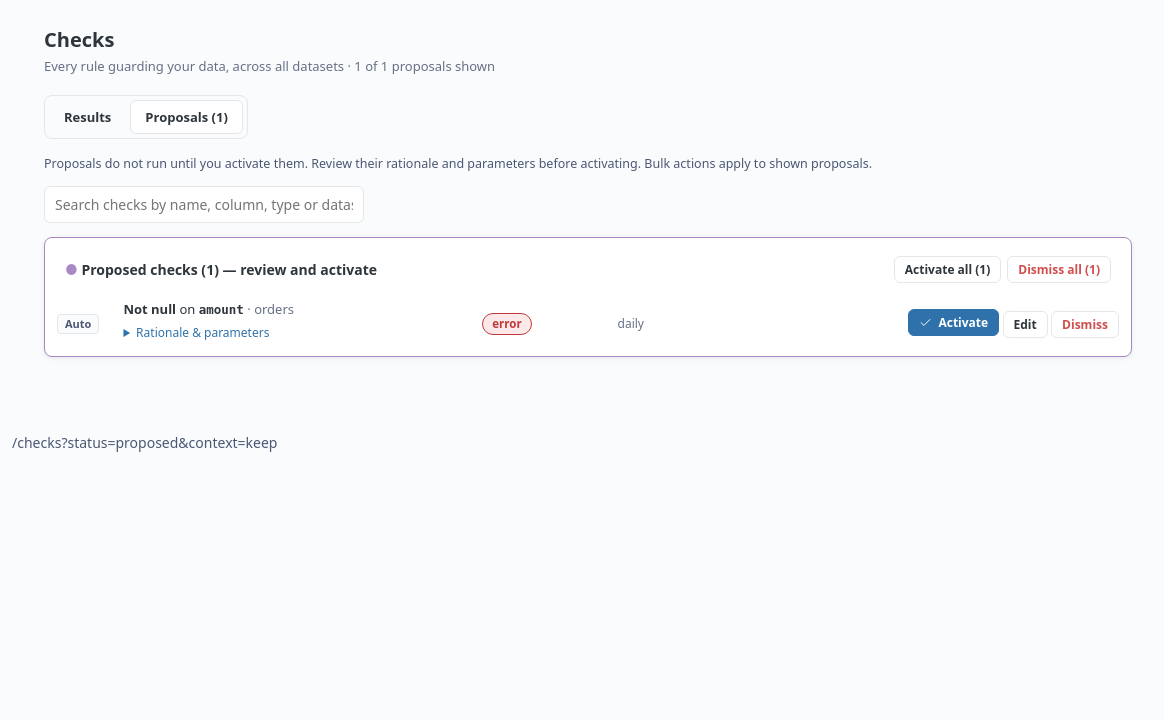
Test: Check results and proposals › keeps old proposal links working, preserves unrelated params and supports paused results
The width and height of the screenshot is (1164, 720).
Expected: the button "Activate all (1)" is shown, [894,256,1001,283]
Click the button "Results": (88, 117) [49,100,126,134]
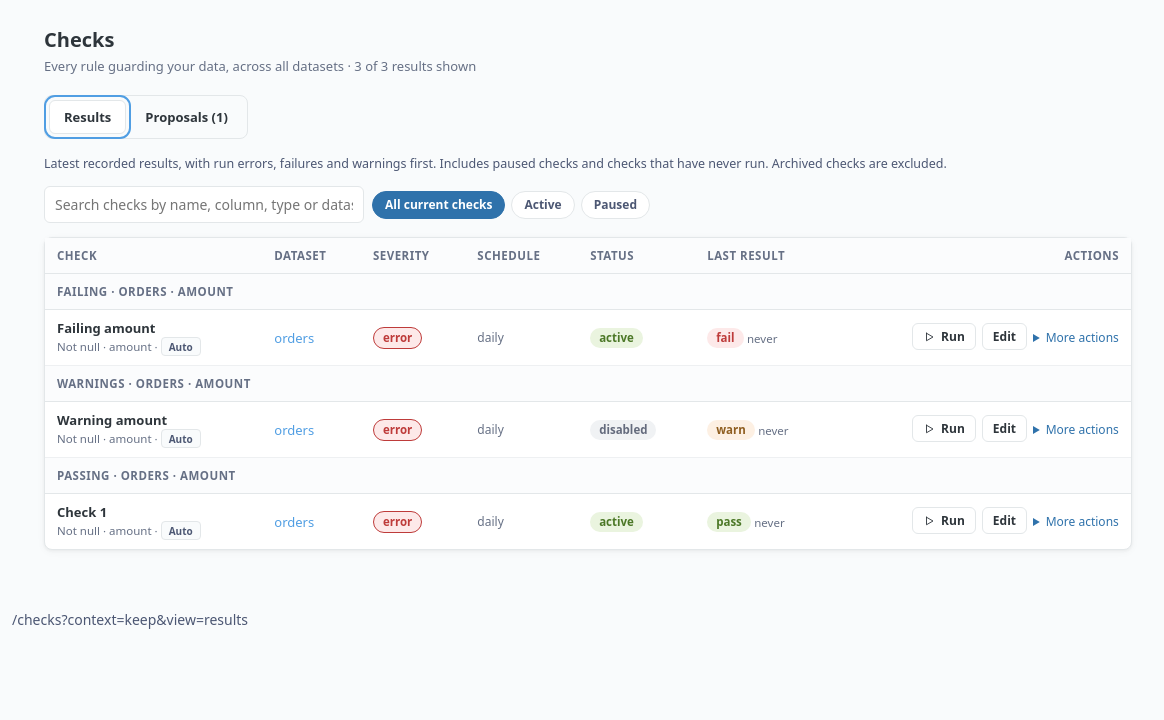
Expected: the text with test id "location" shows "context=keep", [61,610,248,629]
Now the text with test id "location" no longer shows "status=proposed", box [12,610,248,629]
Click the button "Paused": (615, 204) [581,190,650,218]
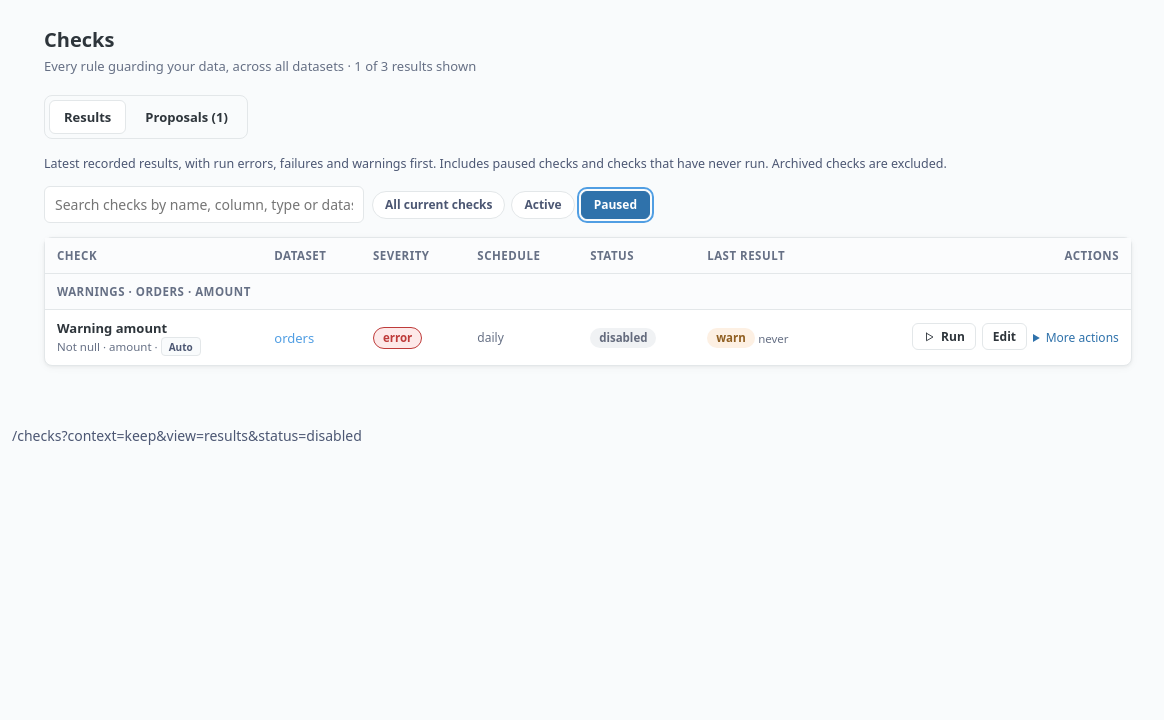
Now the link "Warning amount" is shown, box [57,319,167,337]
Now the link "Failing amount" is gone
